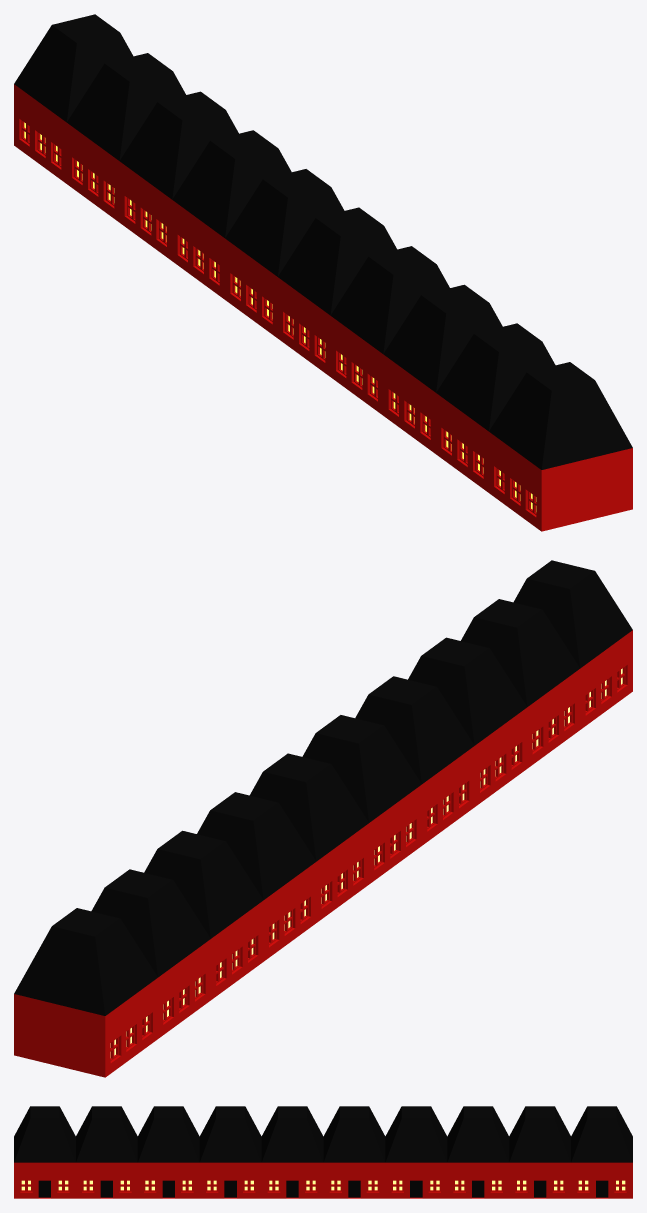
File: bungalows_3.fbx
The picture shows the model from 3 angles, top to bottom: view 1: azimuth 30°, elevation 25°; view 2: azimuth 150°, elevation 25°; view 3: azimuth 270°, elevation 25°; orthographic projection. The views are drawn at different scales.
Visible parts, largest first — view 1: Cube; view 2: Cube; view 3: Cube.
Part boxes in pixels (left/top/right/bottom): Cube: left=14, top=14, right=632, bottom=531; Cube: left=14, top=560, right=632, bottom=1077; Cube: left=14, top=1106, right=632, bottom=1198.
Size of the model in its own units: 28 by 36.56 by 280.
